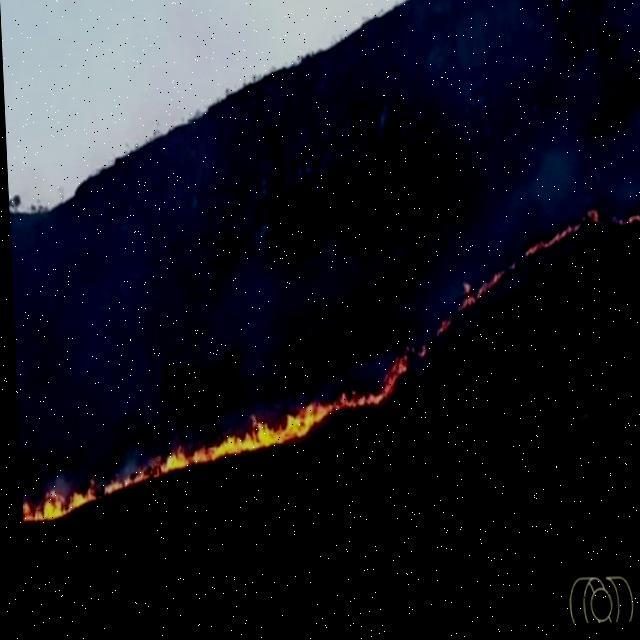Fire: (157, 393, 328, 466), (326, 349, 405, 412), (18, 468, 94, 531), (456, 264, 513, 312), (518, 224, 582, 256), (100, 469, 160, 494)
